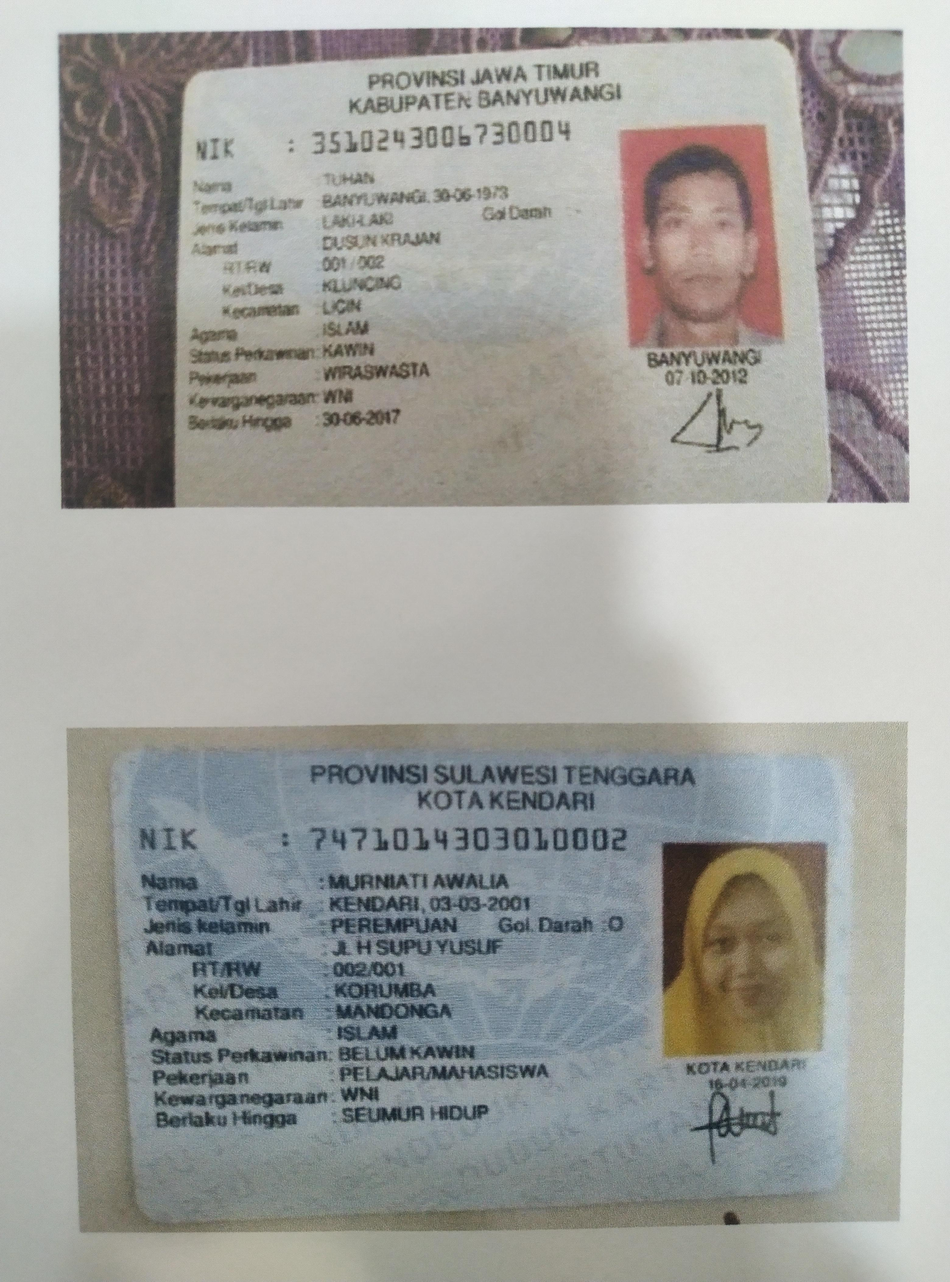ktp: (128, 758, 844, 1218), (175, 45, 827, 504)
